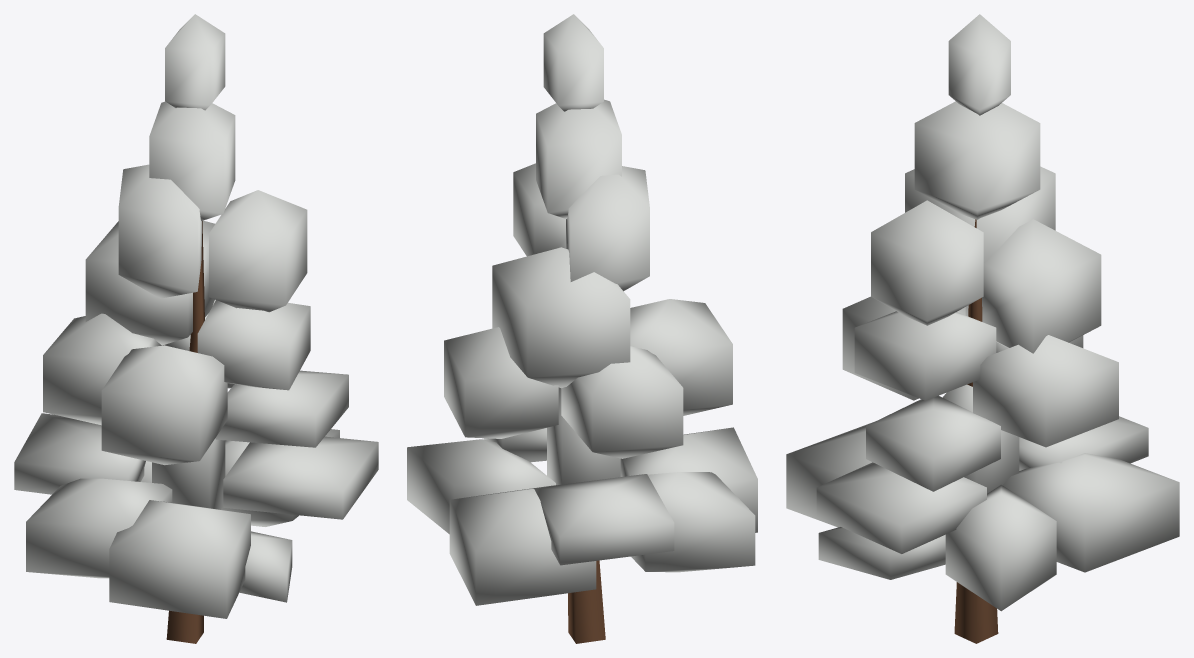
The model's file is gran-lite.glb.
3 renders of one model, left to right at view 1: azimuth 30°, elevation 25°; view 2: azimuth 150°, elevation 25°; view 3: azimuth 270°, elevation 25°, orthographic.
Parts seen in each view (by area): view 1: crown, trunk; view 2: crown, trunk; view 3: crown, trunk.
Boxes of the visible parts, x1,y1,x2,y2 form: crown: [14, 14, 378, 618]; trunk: [166, 221, 204, 643]; crown: [407, 14, 757, 605]; trunk: [568, 560, 605, 643]; crown: [786, 14, 1179, 611]; trunk: [954, 219, 998, 643].
Bounding box in the file's own units: 10.91 × 19.52 × 11.11.
